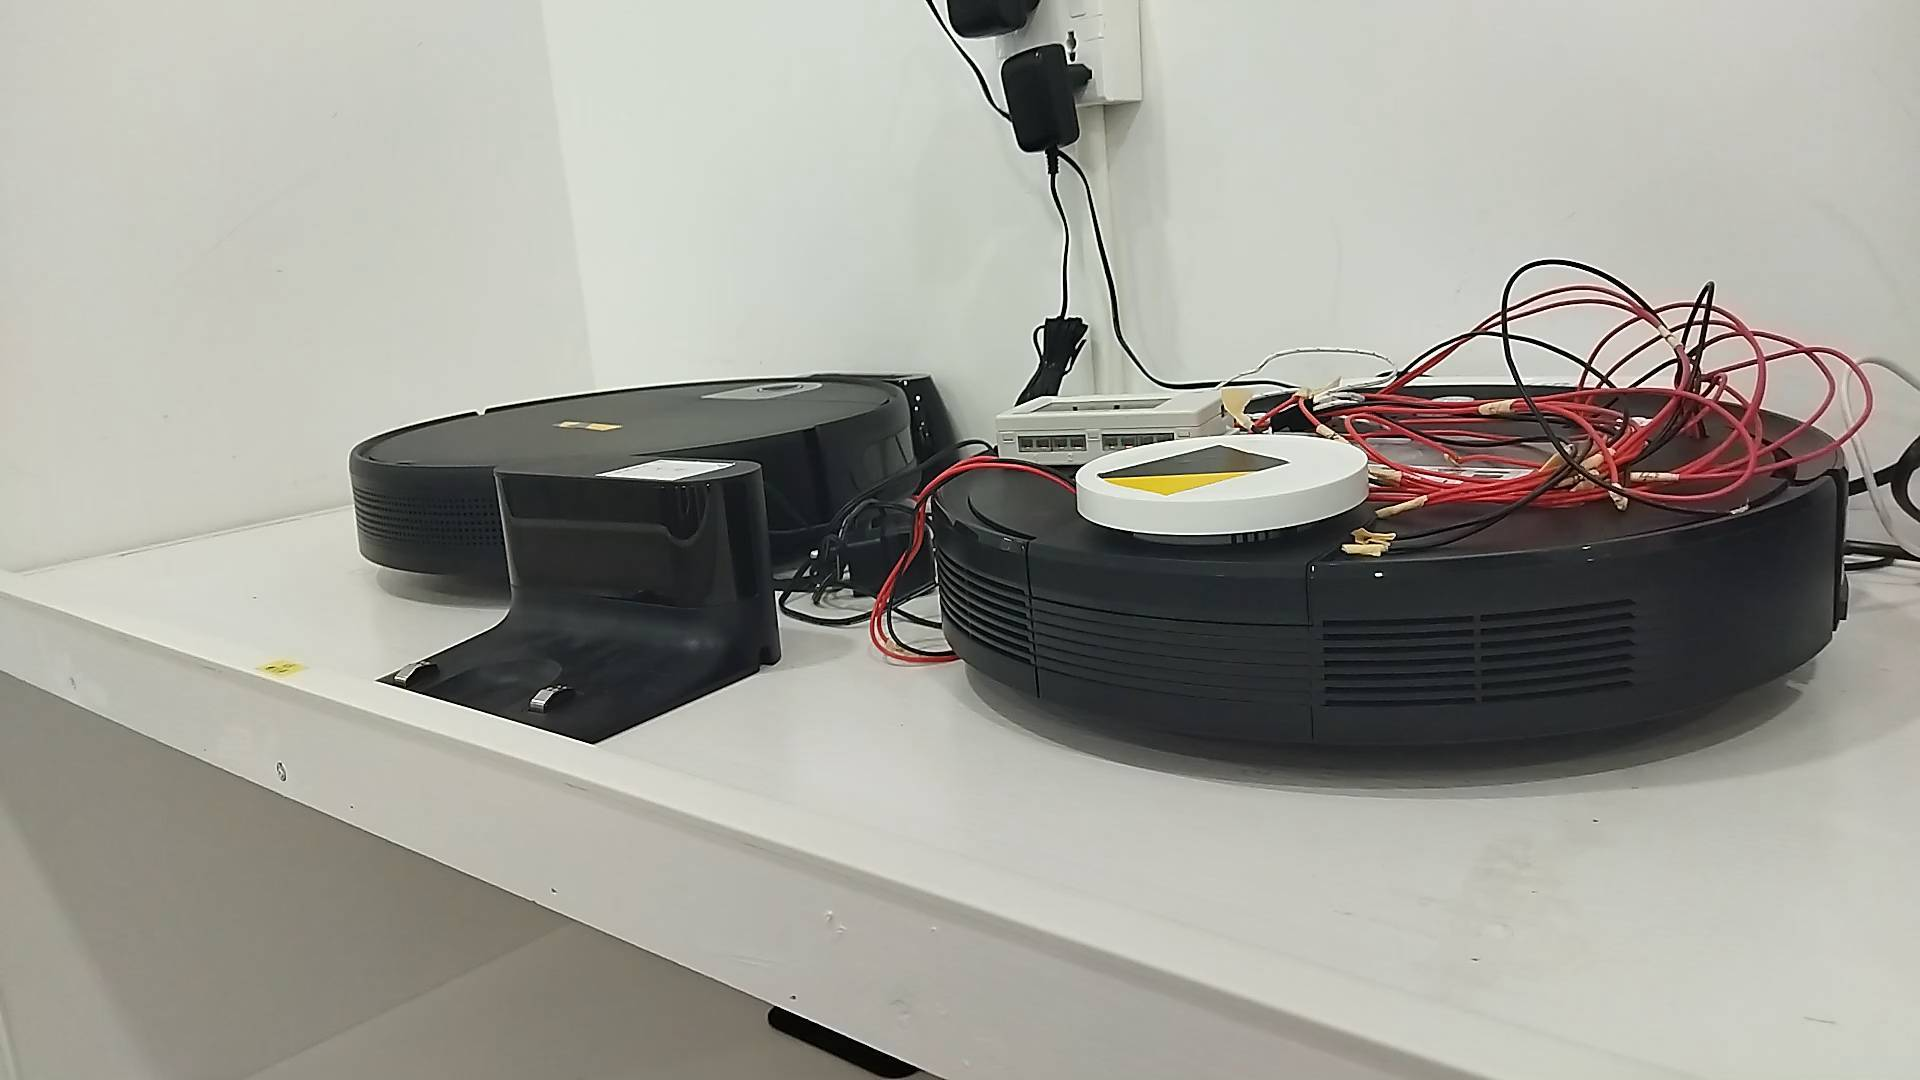recharge seat: (377, 458, 781, 742)
